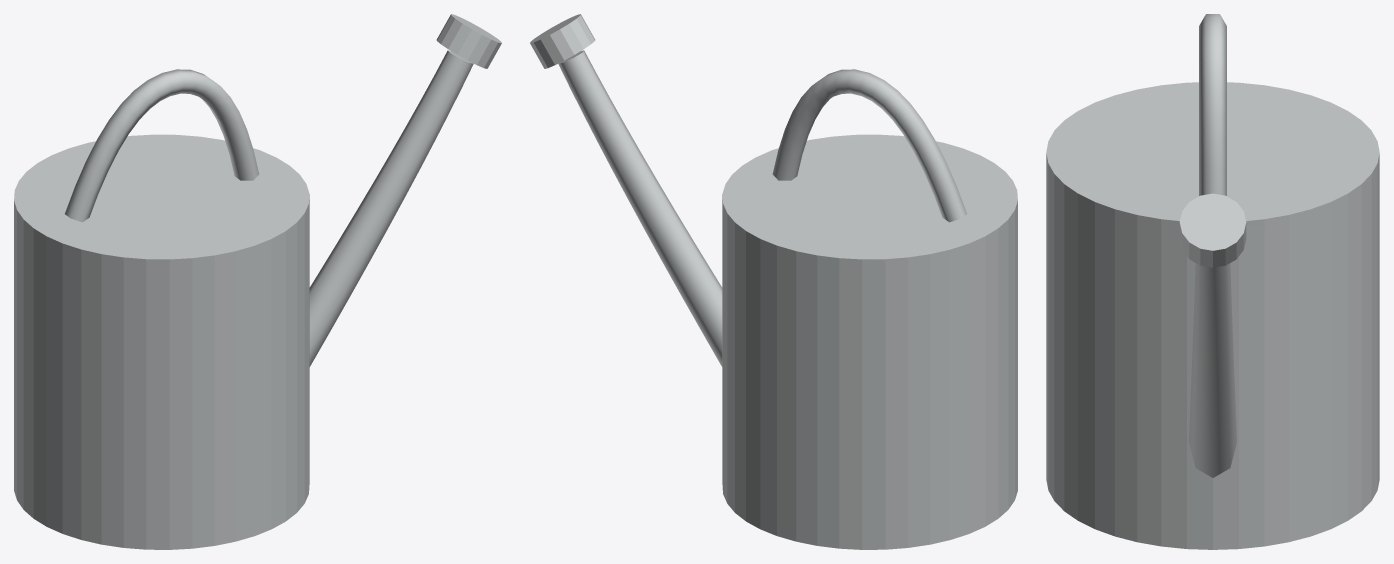
Rendered from watering_can.glb.
The picture shows the model from 3 angles, left to right: view 1: azimuth 30°, elevation 25°; view 2: azimuth 150°, elevation 25°; view 3: azimuth 270°, elevation 25°; orthographic projection. The views are drawn at different scales.
Parts seen in each view (by area): view 1: watering_can; view 2: watering_can; view 3: watering_can.
Part boxes in pixels (bbox=[...]): watering_can: bbox=[14, 14, 501, 549]; watering_can: bbox=[530, 14, 1017, 549]; watering_can: bbox=[1046, 14, 1379, 549].
Bounding box in the file's own units: 10.86 × 9.21 × 6.
1 material, 1 textured.
